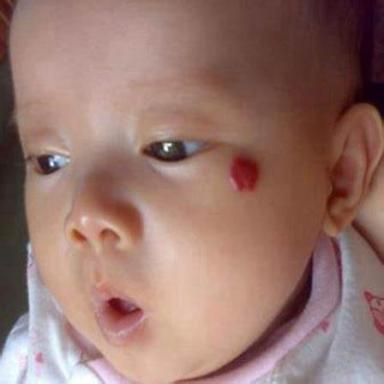Hemangiome: (230, 156, 259, 192)
